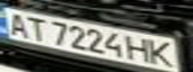2: (84, 26, 106, 55), (66, 22, 87, 52)
4: (103, 30, 127, 60)
7: (45, 18, 72, 47)
A: (3, 10, 30, 37)
H: (124, 34, 154, 63)
K: (145, 38, 178, 69)
T: (21, 15, 51, 42)
